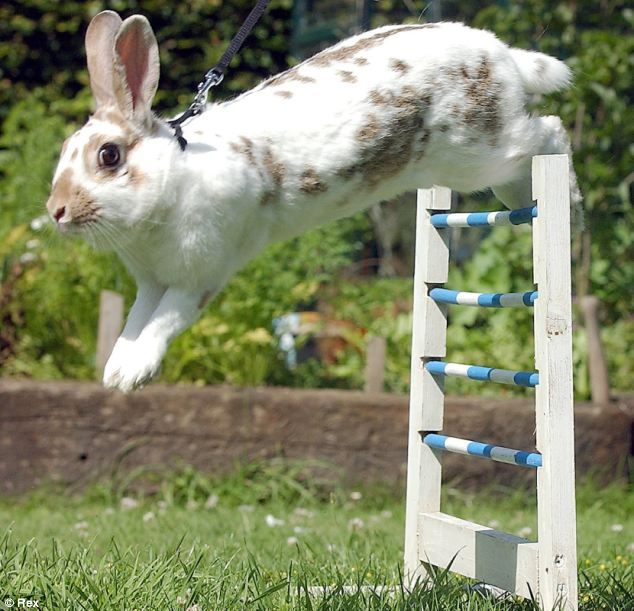bunny: (7, 7, 596, 399)
